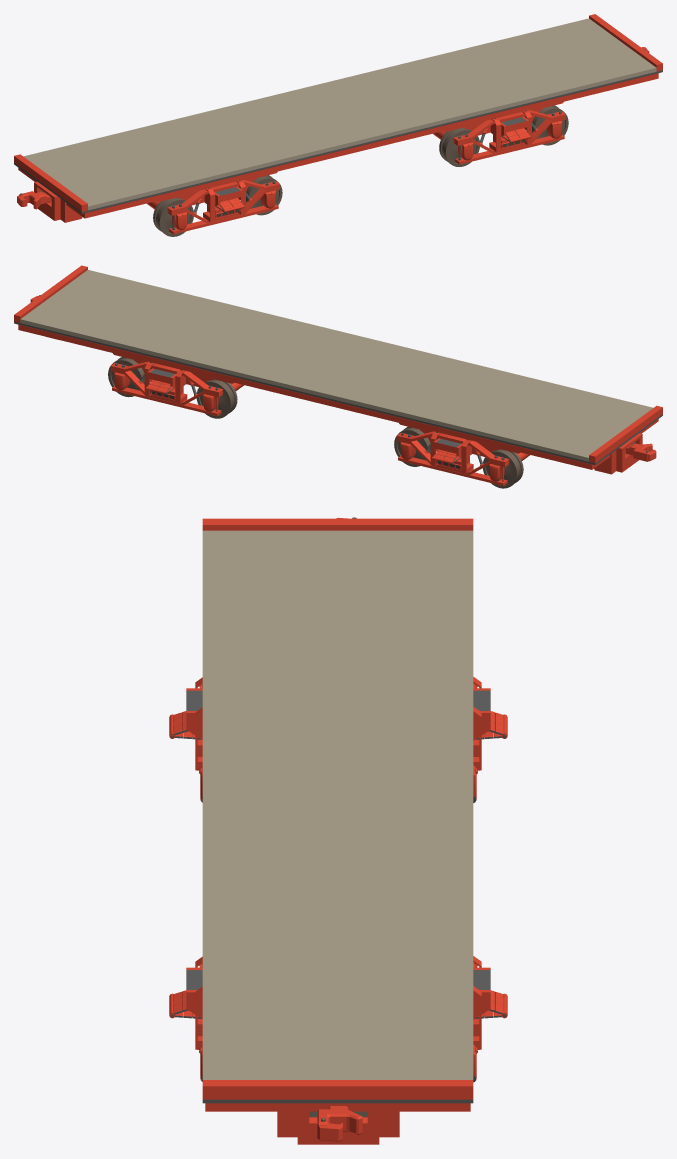
The model's file is trainFlatbed.fbx.
3 renders of one model, top to bottom at view 1: azimuth 30°, elevation 25°; view 2: azimuth 150°, elevation 25°; view 3: azimuth 270°, elevation 25°, orthographic. The views are drawn at different scales.
Visible parts, largest first — view 1: Train Flatbed; view 2: Train Flatbed; view 3: Train Flatbed.
Part boxes in pixels (x1,y1,x2,y2): Train Flatbed: (14, 14, 662, 236); Train Flatbed: (14, 265, 662, 488); Train Flatbed: (169, 517, 507, 1144).
Bounding box in the file's own units: 1475 × 345 × 134.
